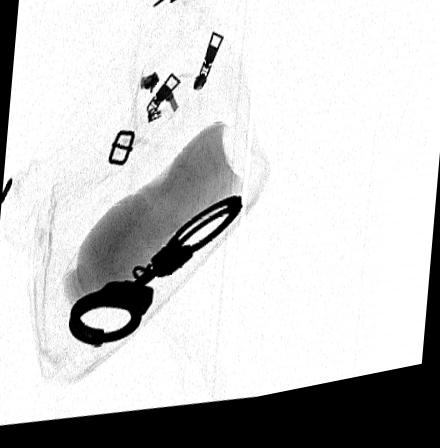HandCuffs: (67, 204, 242, 350)
